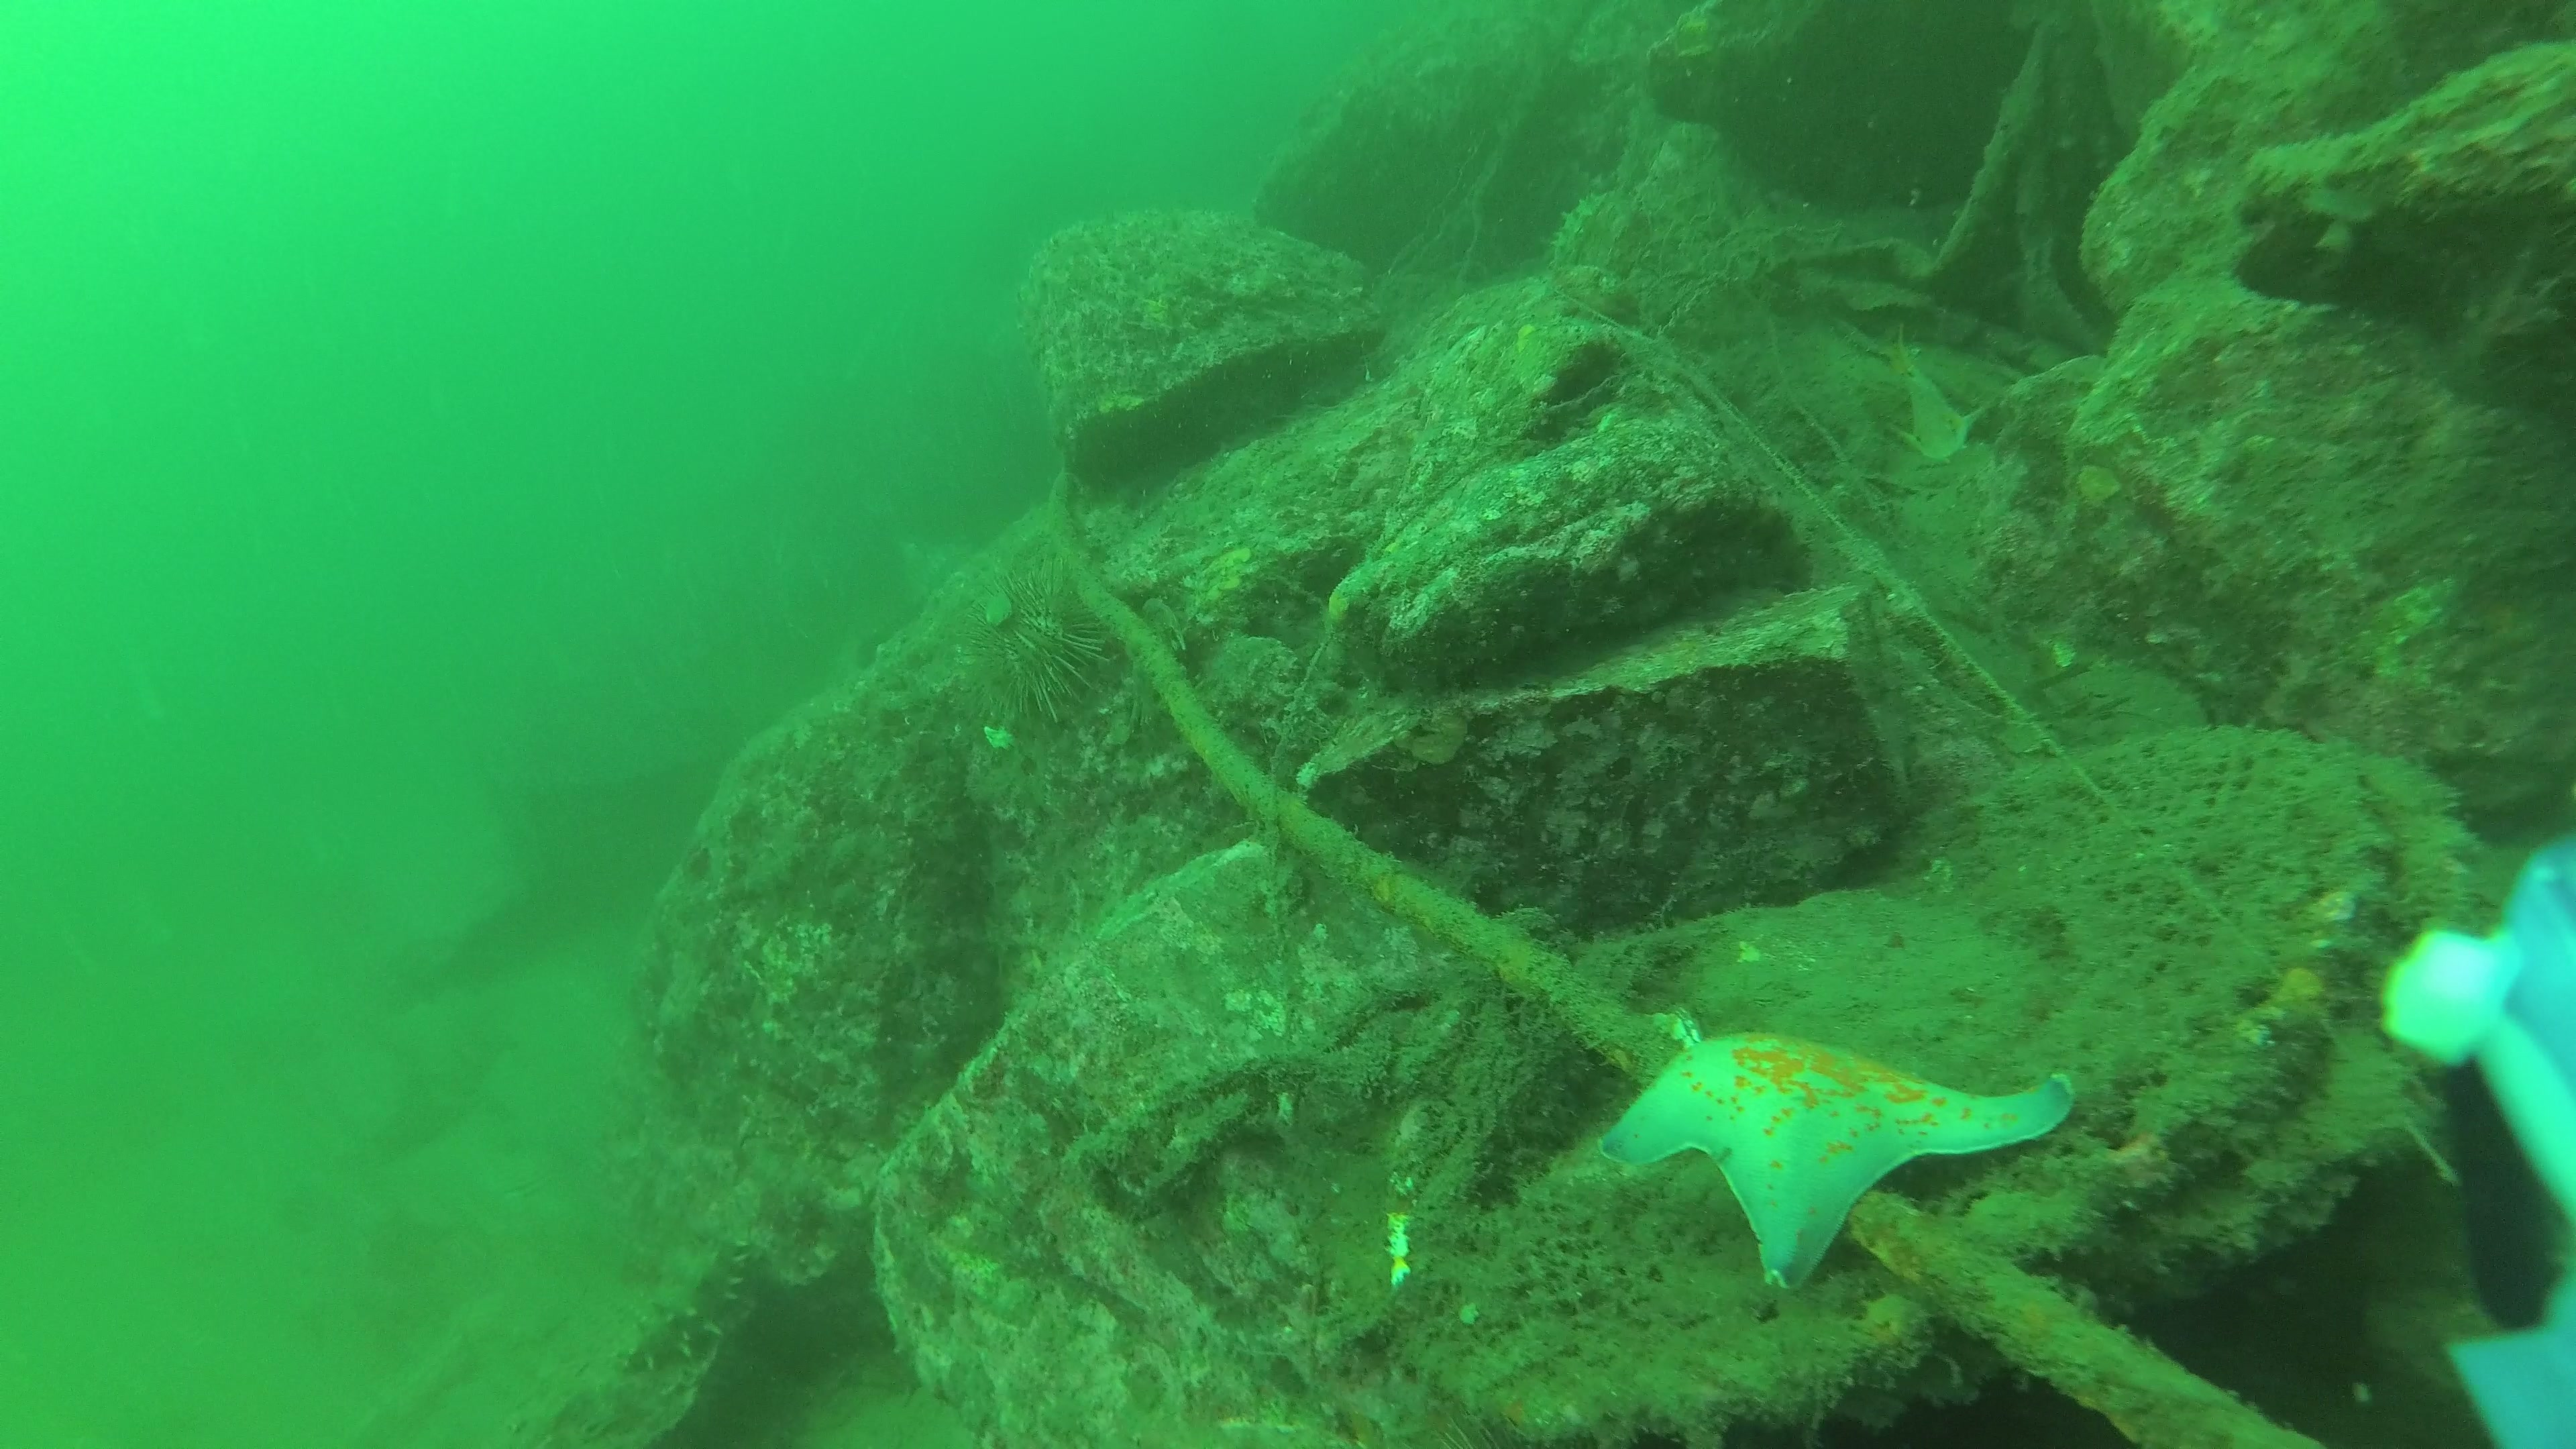echinus: (941, 556, 1134, 734)
holothurian: (596, 1228, 748, 1380)
starfish: (1603, 1016, 2077, 1299)
